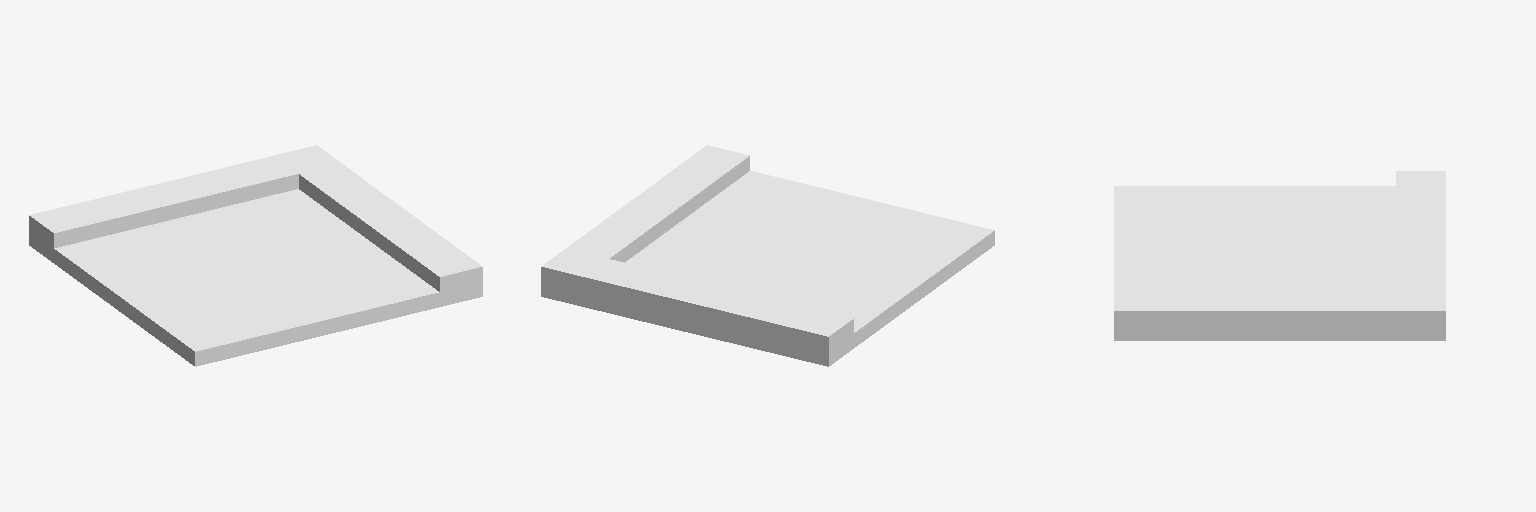
File: Stenka1-0.obj
3 renders of one model, left to right at view 1: azimuth 30°, elevation 25°; view 2: azimuth 150°, elevation 25°; view 3: azimuth 270°, elevation 25°, orthographic.
Parts seen in each view (by area): view 1: object 1; view 2: object 1; view 3: object 1.
Part boxes in pixels (bbox=[...]): object 1: bbox=[29, 145, 482, 366]; object 1: bbox=[541, 145, 994, 366]; object 1: bbox=[1114, 171, 1445, 340].
Size of the model in its own units: 2 by 0.2 by 2.